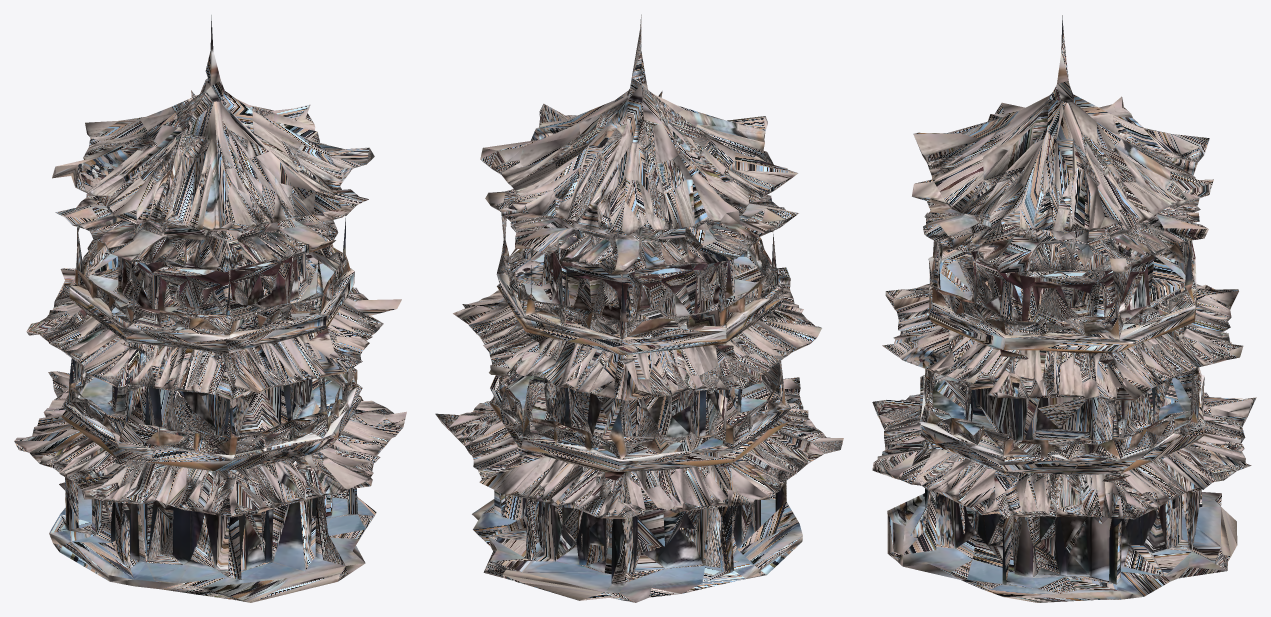
The model's file is lib_pagoda5.mid.glb.
3 renders of one model, left to right at view 1: azimuth 30°, elevation 25°; view 2: azimuth 150°, elevation 25°; view 3: azimuth 270°, elevation 25°, orthographic.
Visible parts, largest first — view 1: output_unwrapped; view 2: output_unwrapped; view 3: output_unwrapped.
Part boxes in pixels (bbox=[...]): output_unwrapped: bbox=[14, 15, 406, 602]; output_unwrapped: bbox=[435, 14, 843, 602]; output_unwrapped: bbox=[872, 15, 1256, 602].
Size of the model in its own units: 1.31 by 1.95 by 1.3.
Materials: 1 (1 with a texture image).
